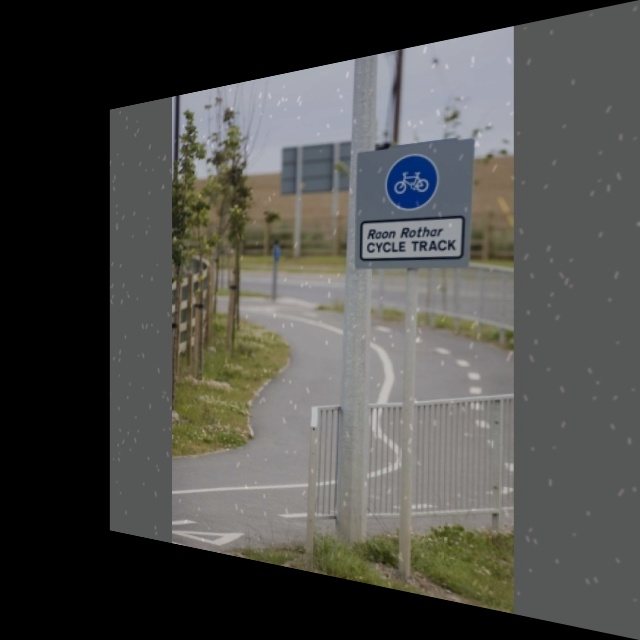Compulsory_Cycle_Track: (379, 146, 444, 218)
